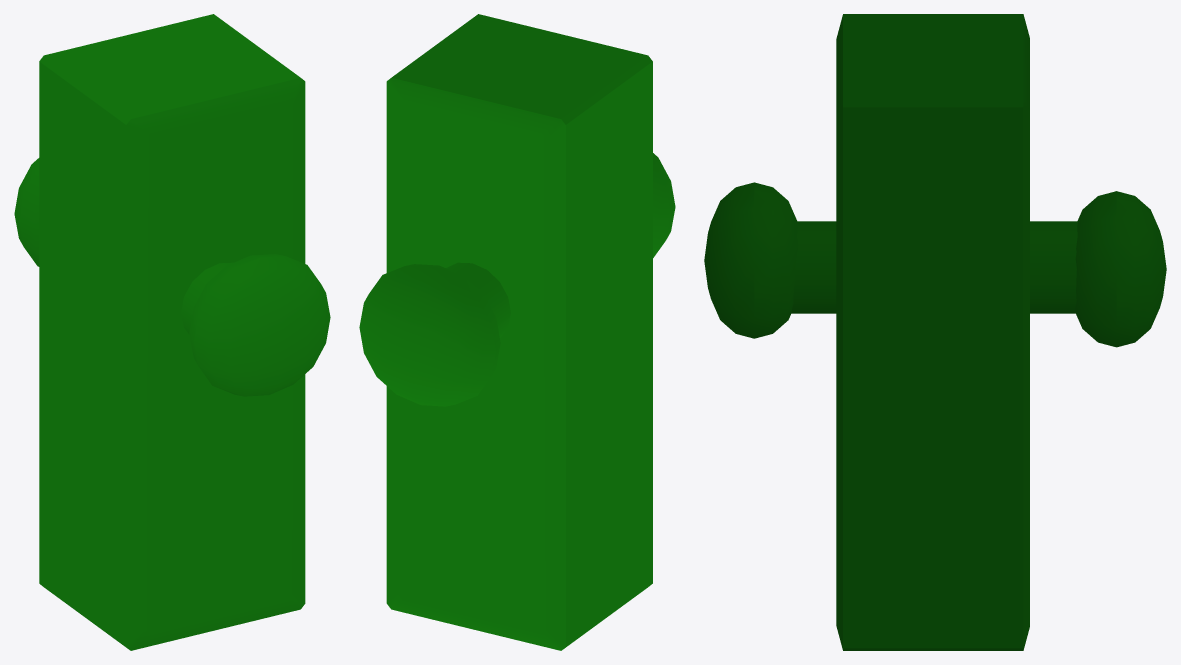
The model's file is StandardKnob1_553c5680.obj.
The picture shows the model from 3 angles, left to right: view 1: azimuth 30°, elevation 25°; view 2: azimuth 150°, elevation 25°; view 3: azimuth 270°, elevation 25°; orthographic projection. The views are drawn at different scales.
Visible parts, largest first — view 1: StandardKnob1_553c5680; view 2: StandardKnob1_553c5680; view 3: StandardKnob1_553c5680.
Part boxes in pixels (x1,y1,x2,y2): StandardKnob1_553c5680: (14, 14, 330, 650); StandardKnob1_553c5680: (359, 14, 675, 650); StandardKnob1_553c5680: (704, 14, 1166, 650).
Size of the model in its own units: 0.058 by 0.1645 by 0.1251.
